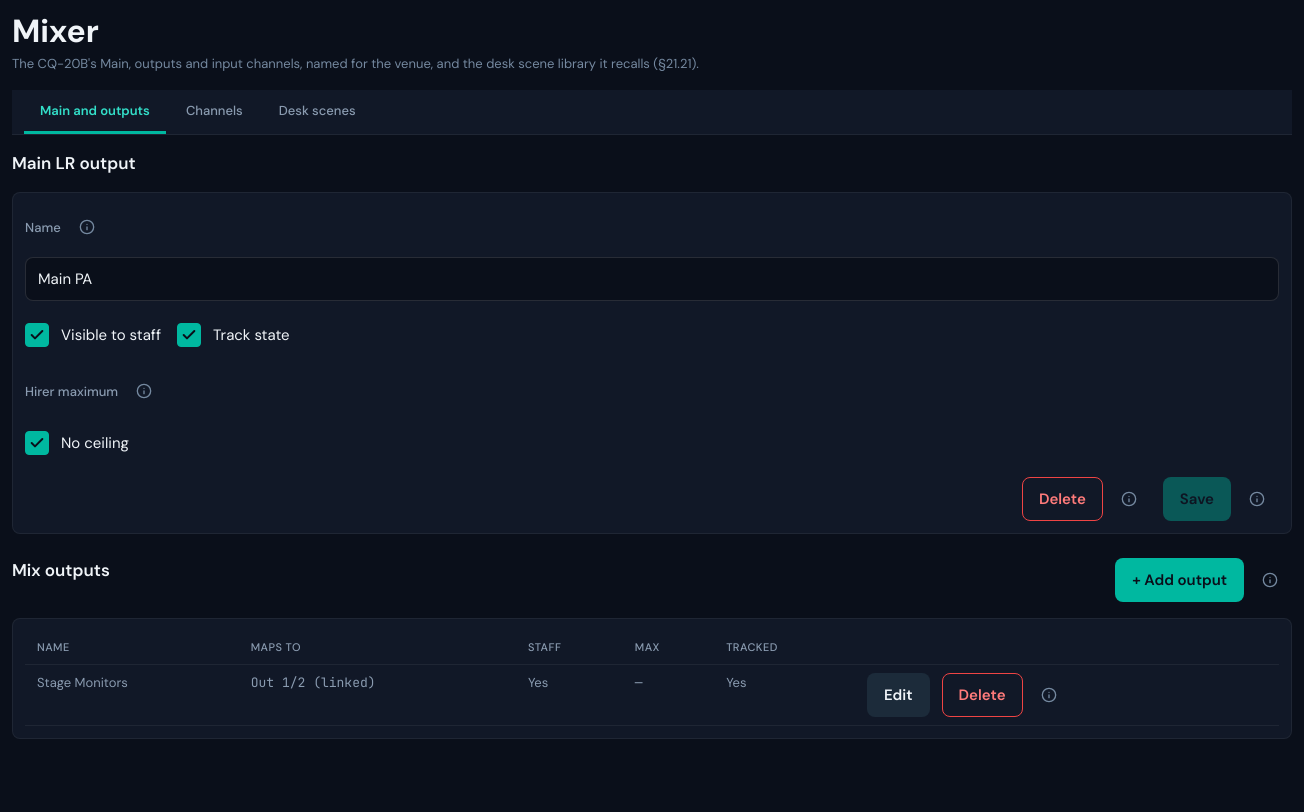
Test: MixerScreen › renders every tab once a mixer is configured
The width and height of the screenshot is (1304, 812).
expect the tab "Main and outputs" is shown: met, box left=24, top=90, right=166, bottom=134
expect the tab "Desk scenes" is shown: met, box left=263, top=90, right=372, bottom=134
Step 1. Click the tab "Channels" → (214, 112), box left=170, top=90, right=259, bottom=134
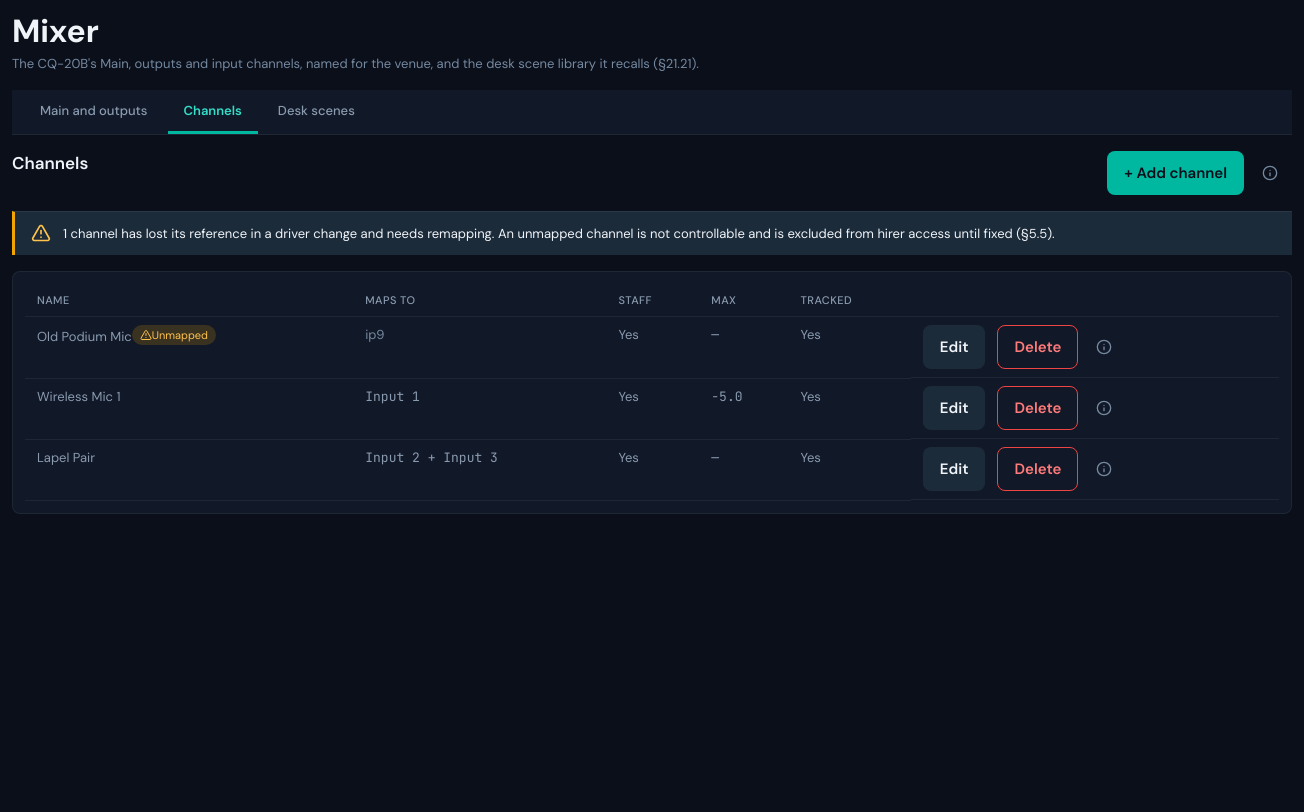
expect the heading "Channels" is shown: met, box left=12, top=151, right=88, bottom=176
Step 2. Click the tab "Desk scenes" → (316, 112), box left=262, top=90, right=371, bottom=134
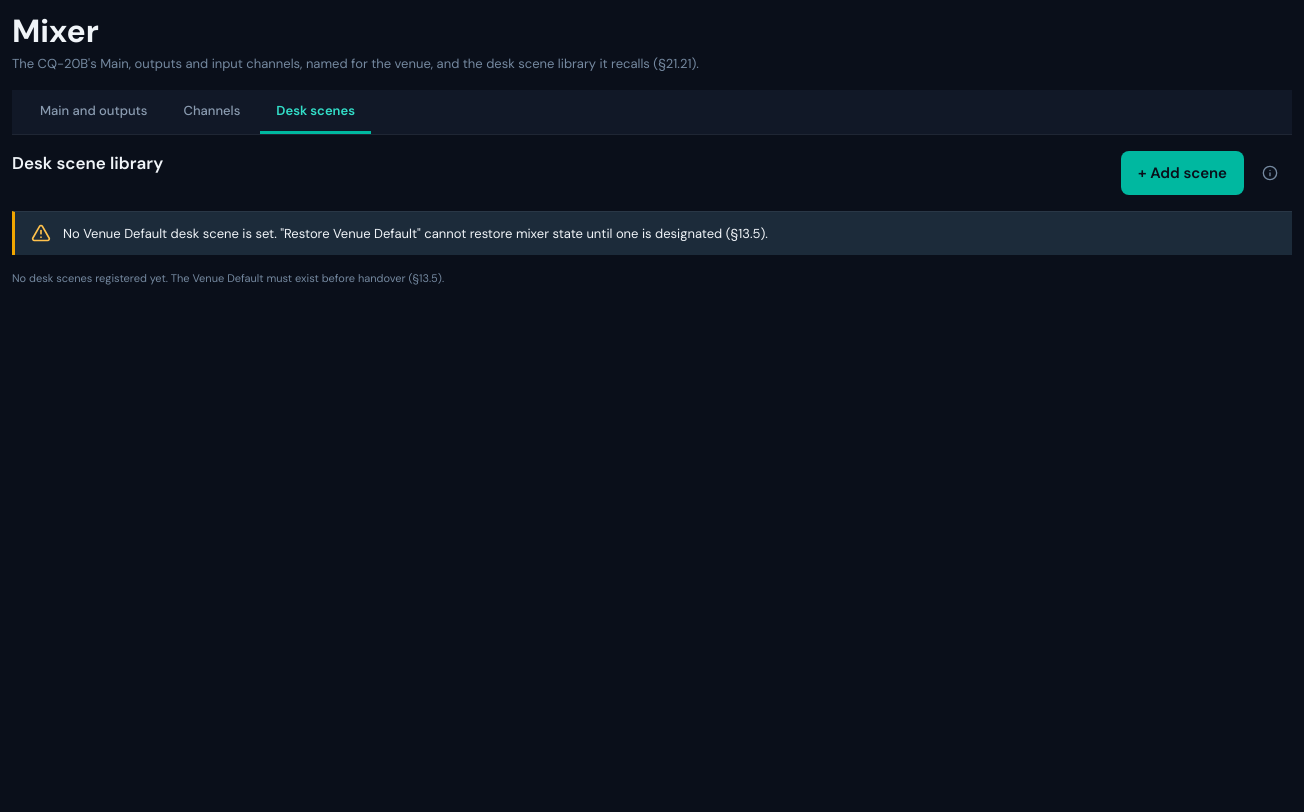
expect the heading "Desk scene library" is shown: met, box left=12, top=151, right=163, bottom=176
